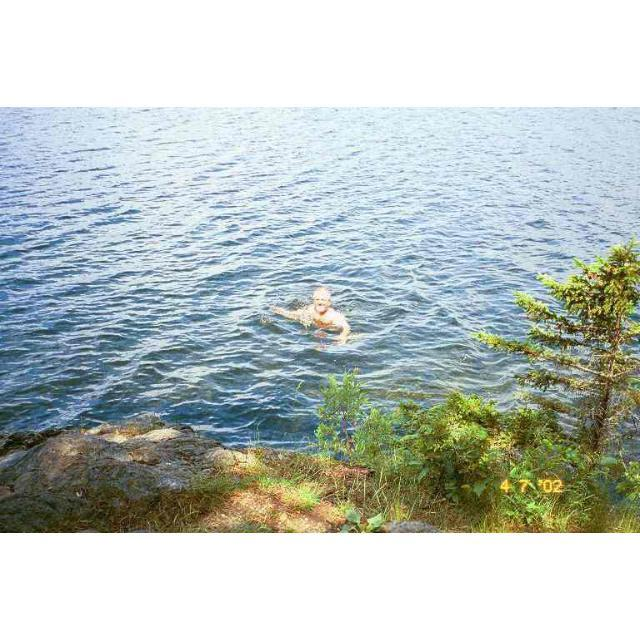human: (273, 285, 353, 344)
